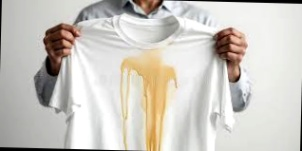coffee: (118, 55, 176, 151)
